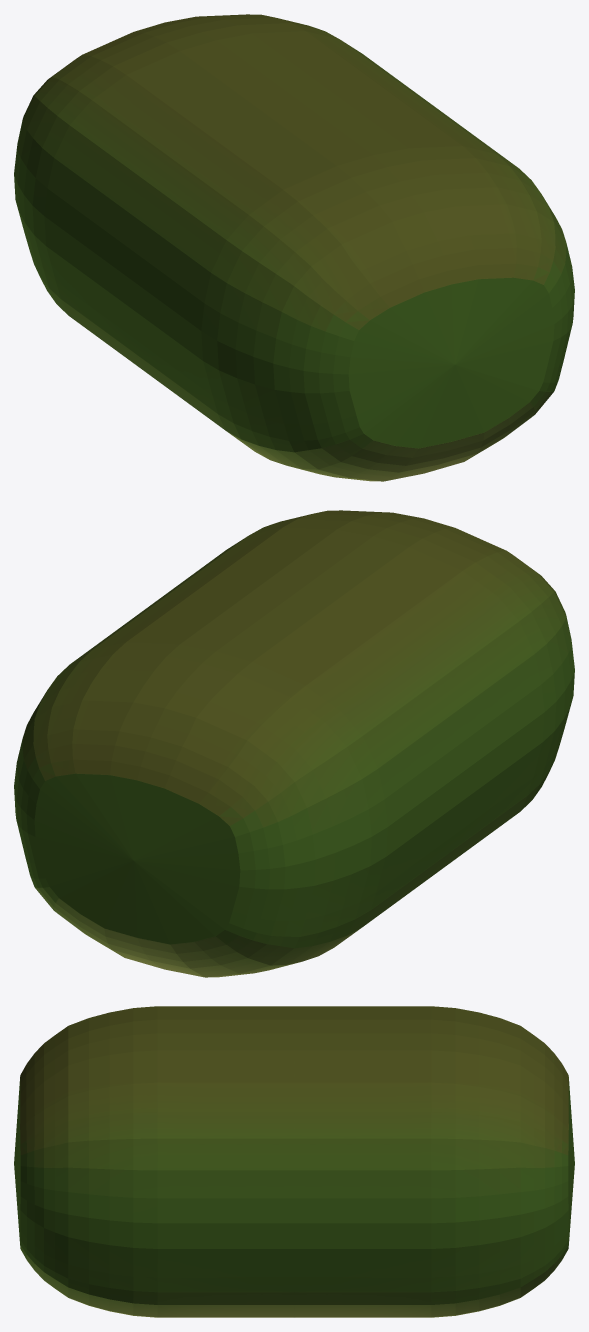
The model's file is snakbody.blend_toimiva.glb.
3 renders of one model, top to bottom at view 1: azimuth 30°, elevation 25°; view 2: azimuth 150°, elevation 25°; view 3: azimuth 270°, elevation 25°, orthographic. The views are drawn at different scales.
Visible parts, largest first — view 1: Body segment; view 2: Body segment; view 3: Body segment.
Part boxes in pixels (x1=…): Body segment: x1=14, y1=14, x2=574, y2=481; Body segment: x1=14, y1=510, x2=574, y2=977; Body segment: x1=14, y1=1006, x2=574, y2=1317.
Size of the model in its own units: 0.9666 by 0.8083 by 1.57.
Materials: 1 (1 with a texture image).
